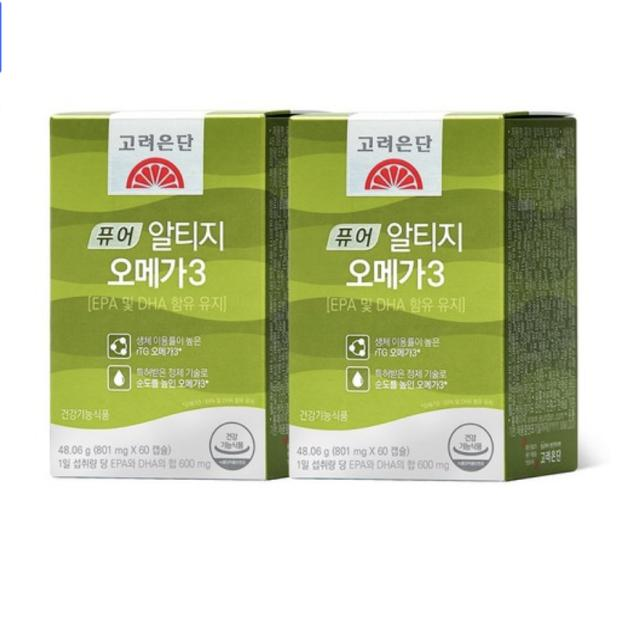biodegradable: (277, 75, 601, 493), (34, 70, 294, 492)
